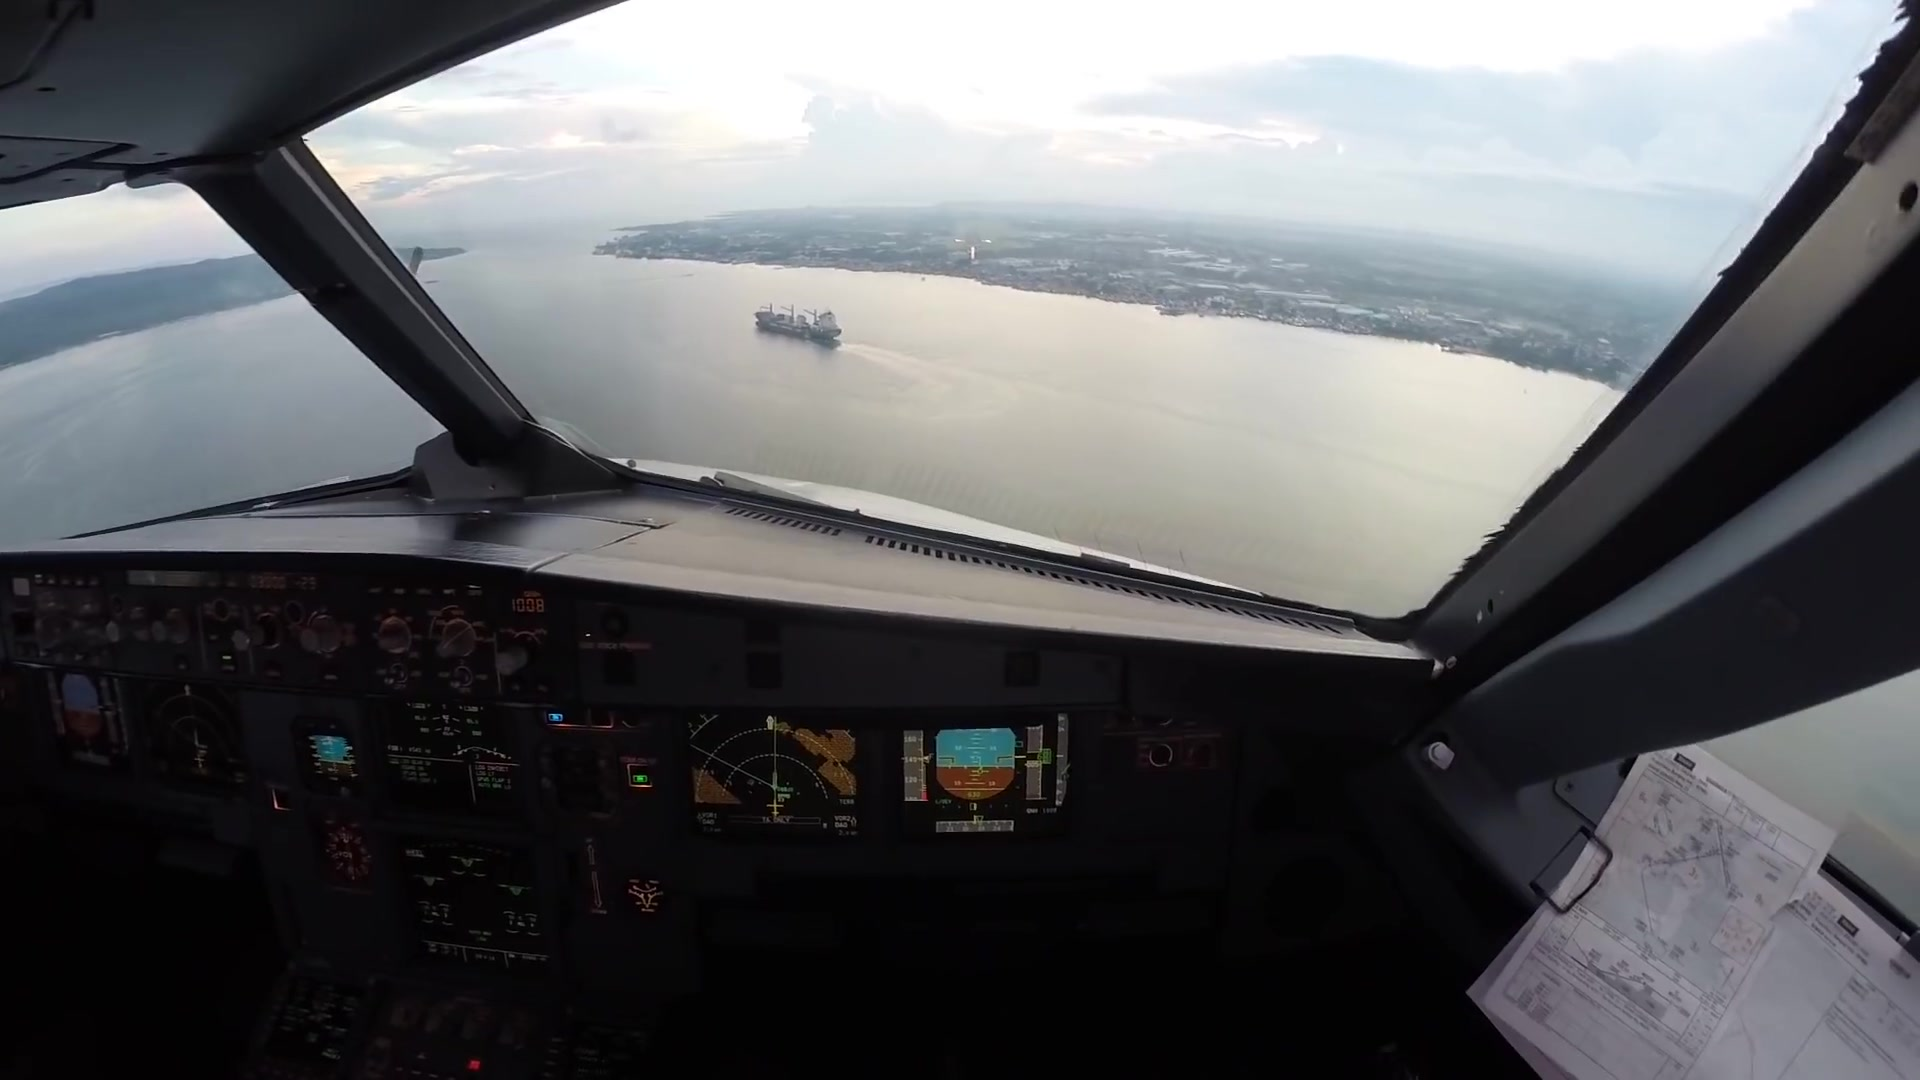runway: (957, 208, 984, 248)
